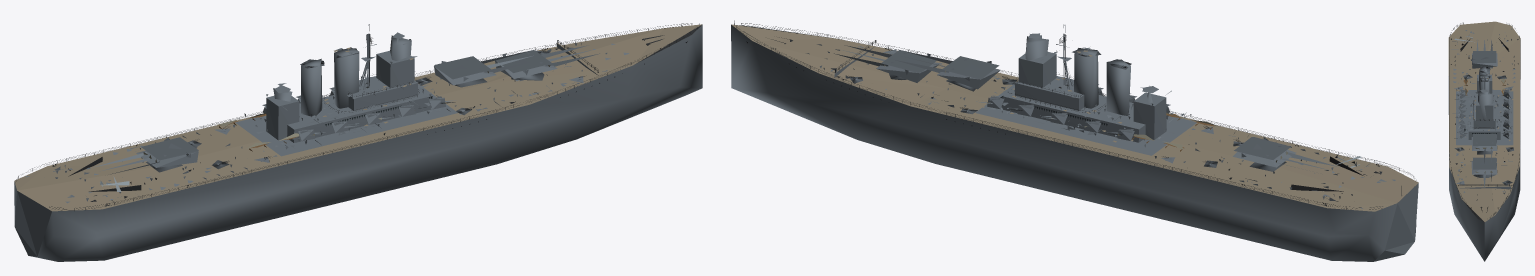
The model's file is north_carolina_lod.glb.
The picture shows the model from 3 angles, left to right: view 1: azimuth 30°, elevation 25°; view 2: azimuth 150°, elevation 25°; view 3: azimuth 270°, elevation 25°; orthographic projection. The views are drawn at different scales.
Visible parts, largest first — view 1: north_carolina_lod; view 2: north_carolina_lod; view 3: north_carolina_lod.
Boxes of the visible parts, x1,y1,x2,y2 form: north_carolina_lod: (14,23,702,261); north_carolina_lod: (731,20,1418,261); north_carolina_lod: (1448,21,1520,261).
Size of the model in its own units: 222 by 46.46 by 33.61.
